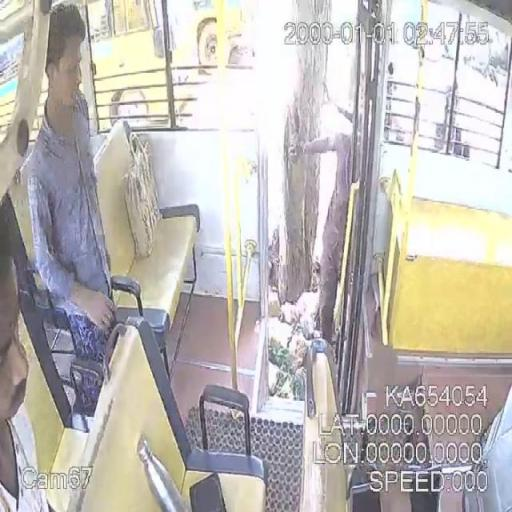persona: (22, 2, 118, 398), (292, 119, 359, 387), (0, 251, 55, 511)
